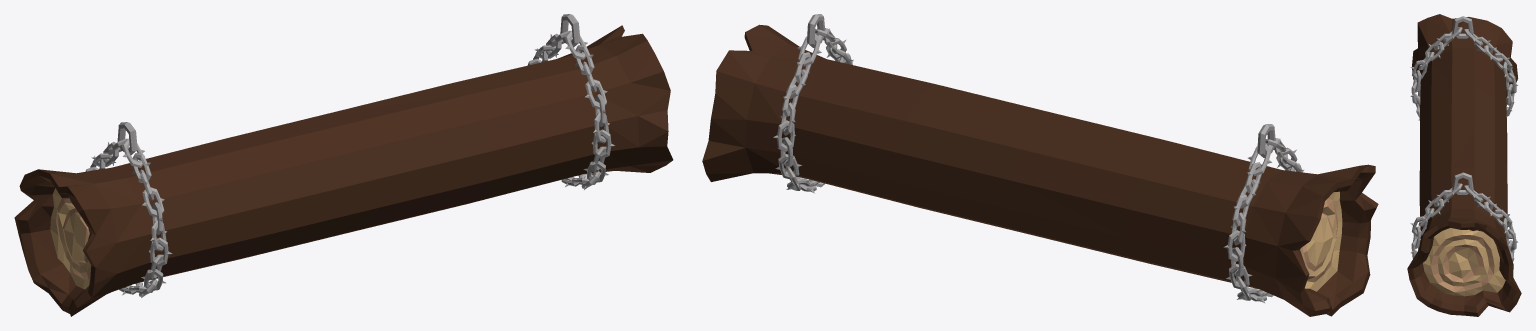
Rendered from ChainLog.fbx.
3 renders of one model, left to right at view 1: azimuth 30°, elevation 25°; view 2: azimuth 150°, elevation 25°; view 3: azimuth 270°, elevation 25°, orthographic. The views are drawn at different scales.
Visible parts, largest first — view 1: ChainLog; view 2: ChainLog; view 3: ChainLog.
Part boxes in pixels (x1,y1,x2,y2): ChainLog: (14,14,673,316); ChainLog: (702,14,1378,316); ChainLog: (1407,14,1521,316).
Bounding box in the file's own units: 363 × 101 × 83.61.
